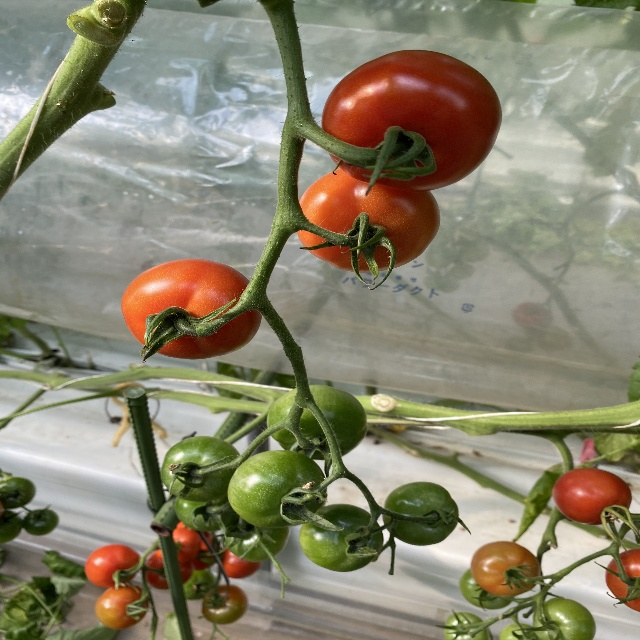l_fully_ripened: (322, 50, 503, 192), (294, 168, 440, 274), (121, 258, 262, 360), (552, 468, 632, 525), (84, 544, 140, 587), (604, 547, 640, 611), (144, 553, 194, 590), (155, 528, 201, 565), (219, 547, 264, 579)
l_green: (266, 383, 368, 462), (227, 451, 327, 529), (298, 504, 383, 573), (161, 435, 244, 502), (382, 481, 459, 546), (222, 518, 292, 562), (533, 598, 597, 639), (459, 567, 517, 610), (175, 496, 245, 531), (444, 613, 492, 640), (1, 477, 37, 509), (21, 508, 60, 536), (500, 622, 540, 640)
l_half_ripened: (471, 540, 540, 596), (94, 582, 152, 630), (201, 584, 248, 625)
